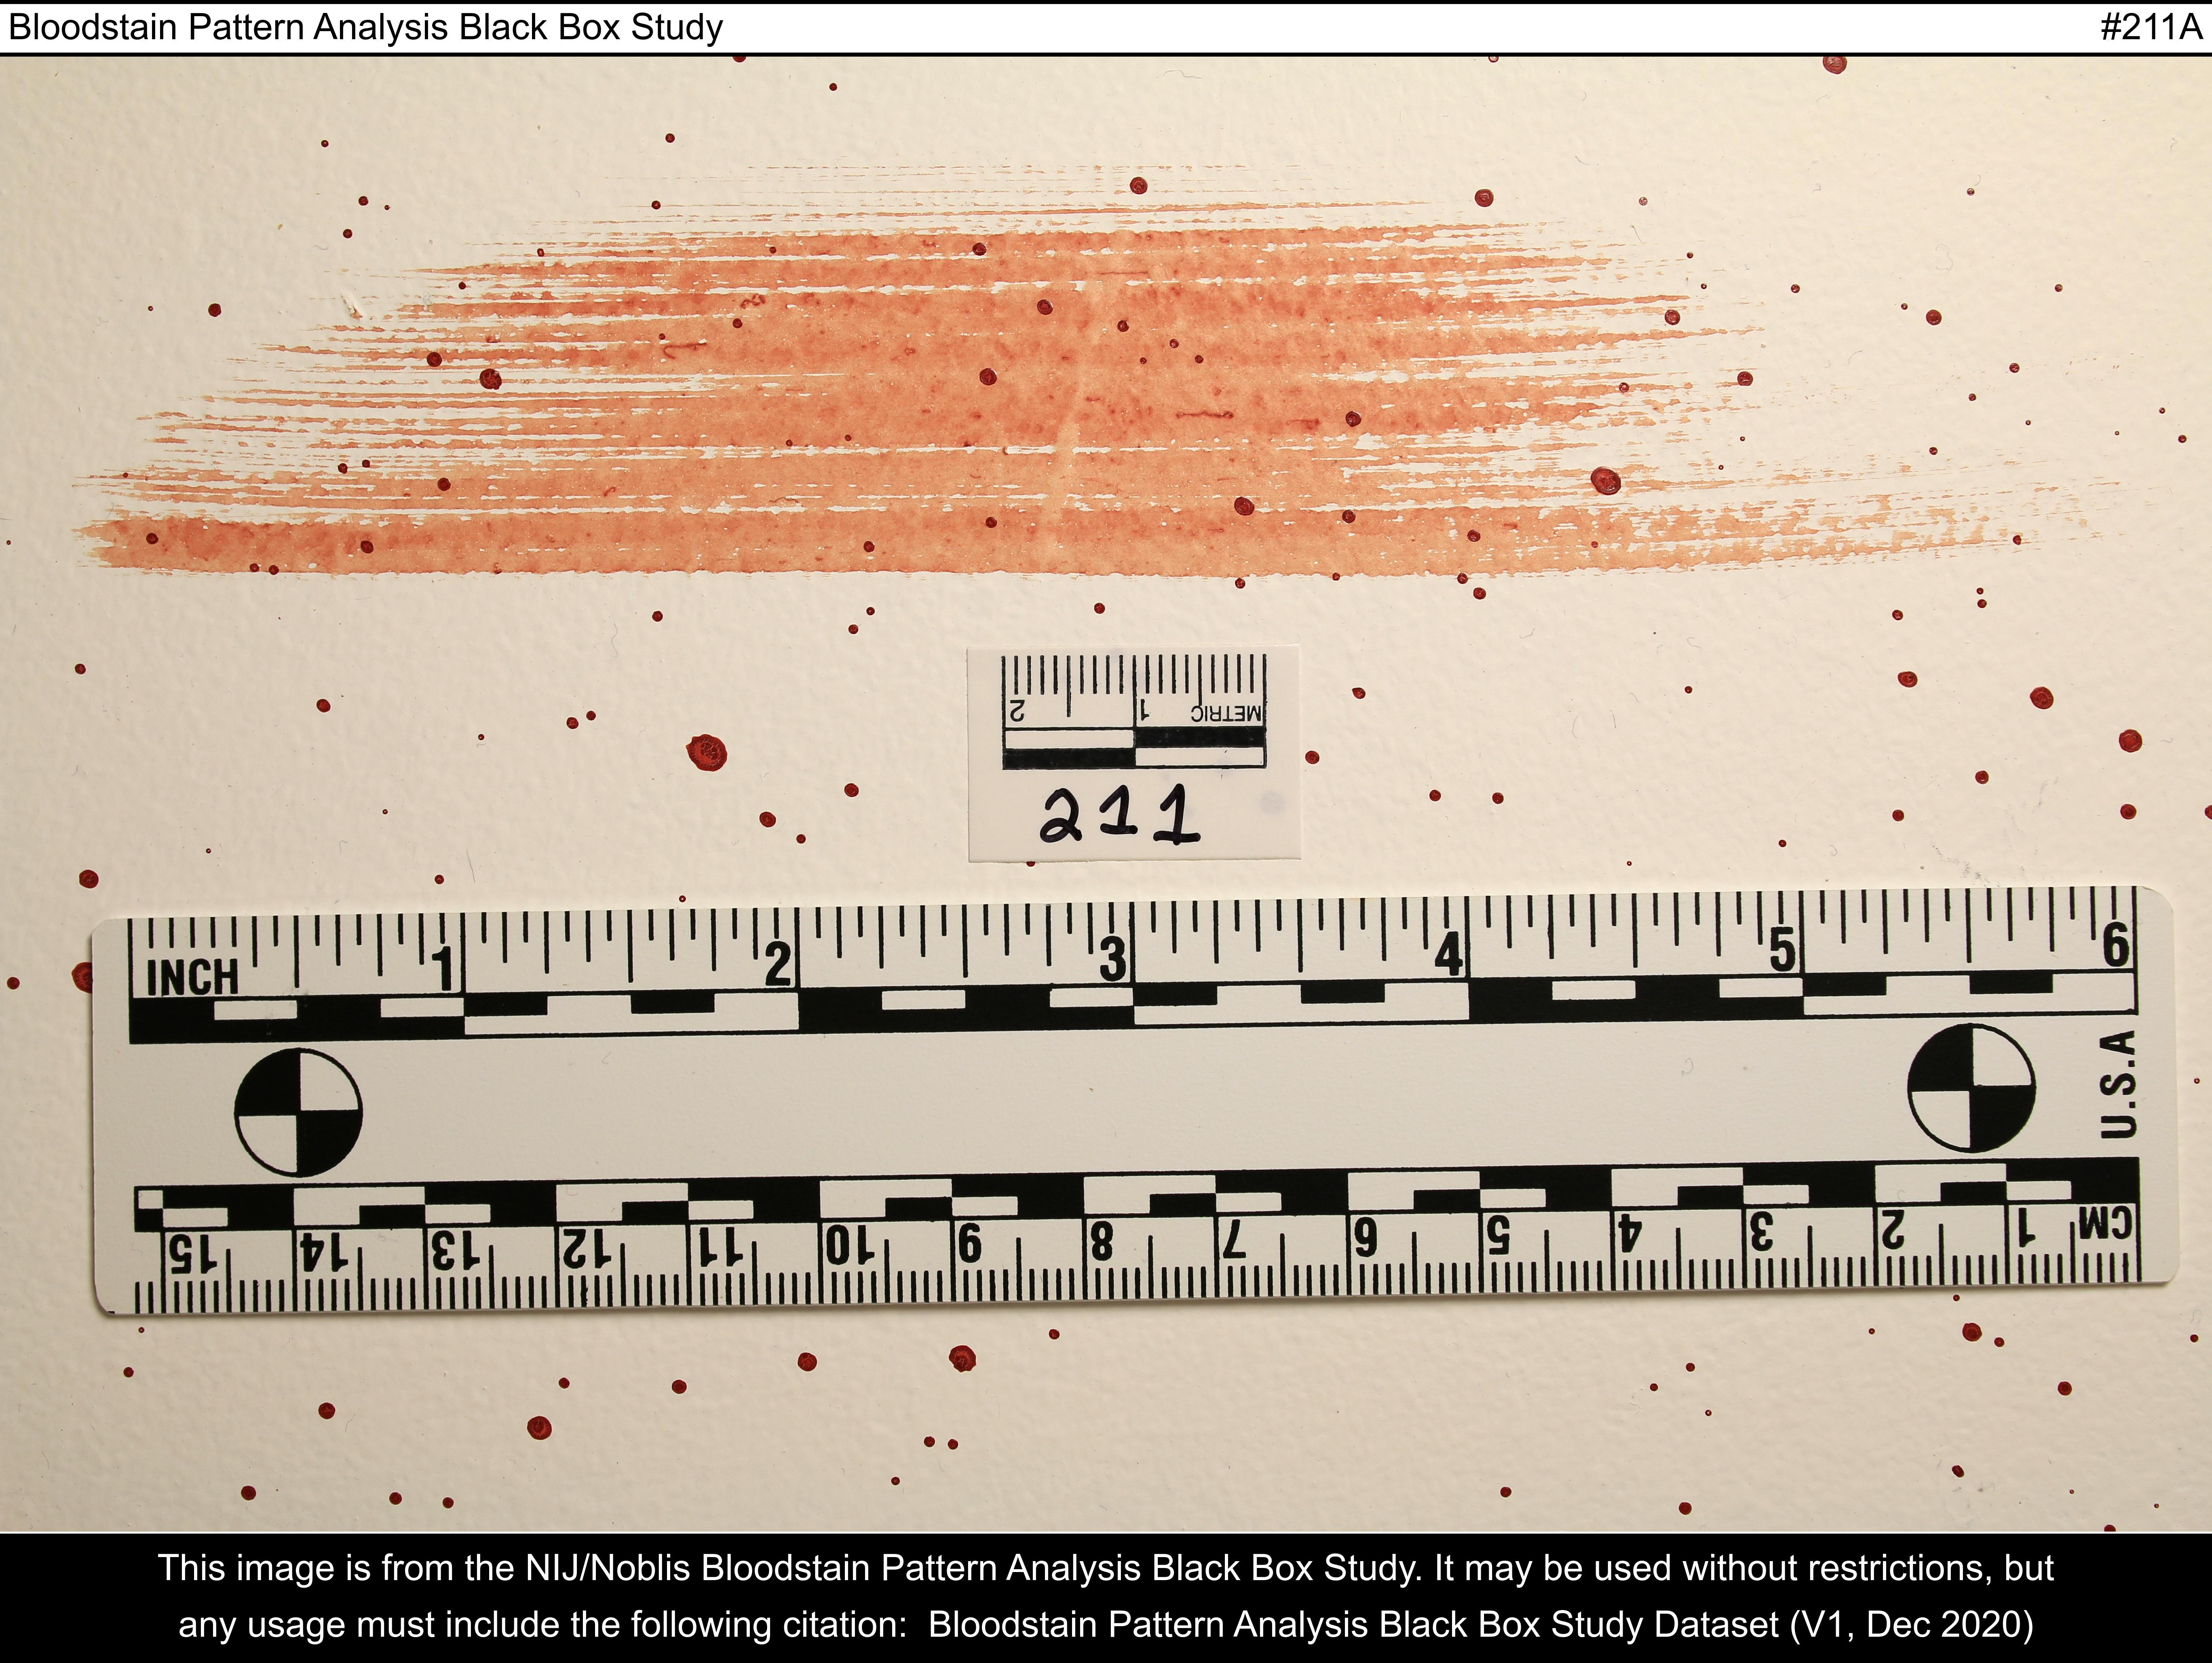Impact: (52, 613, 918, 873)
Transfer: (80, 164, 2106, 575)
